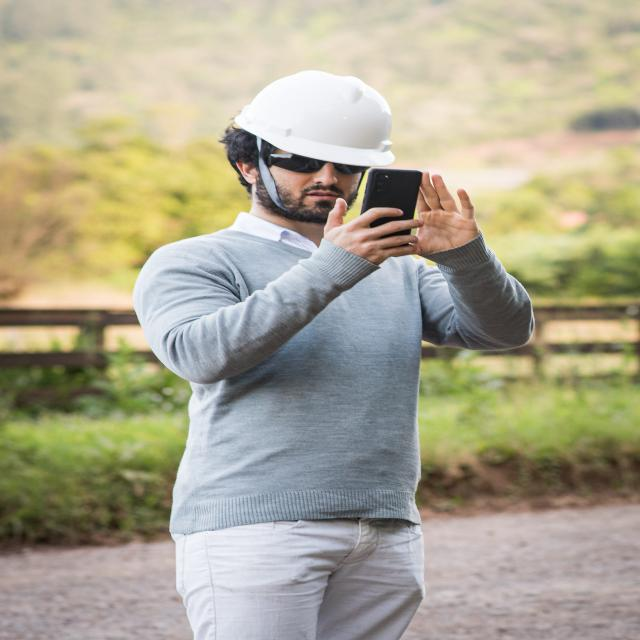capacete: (230, 67, 399, 169)
